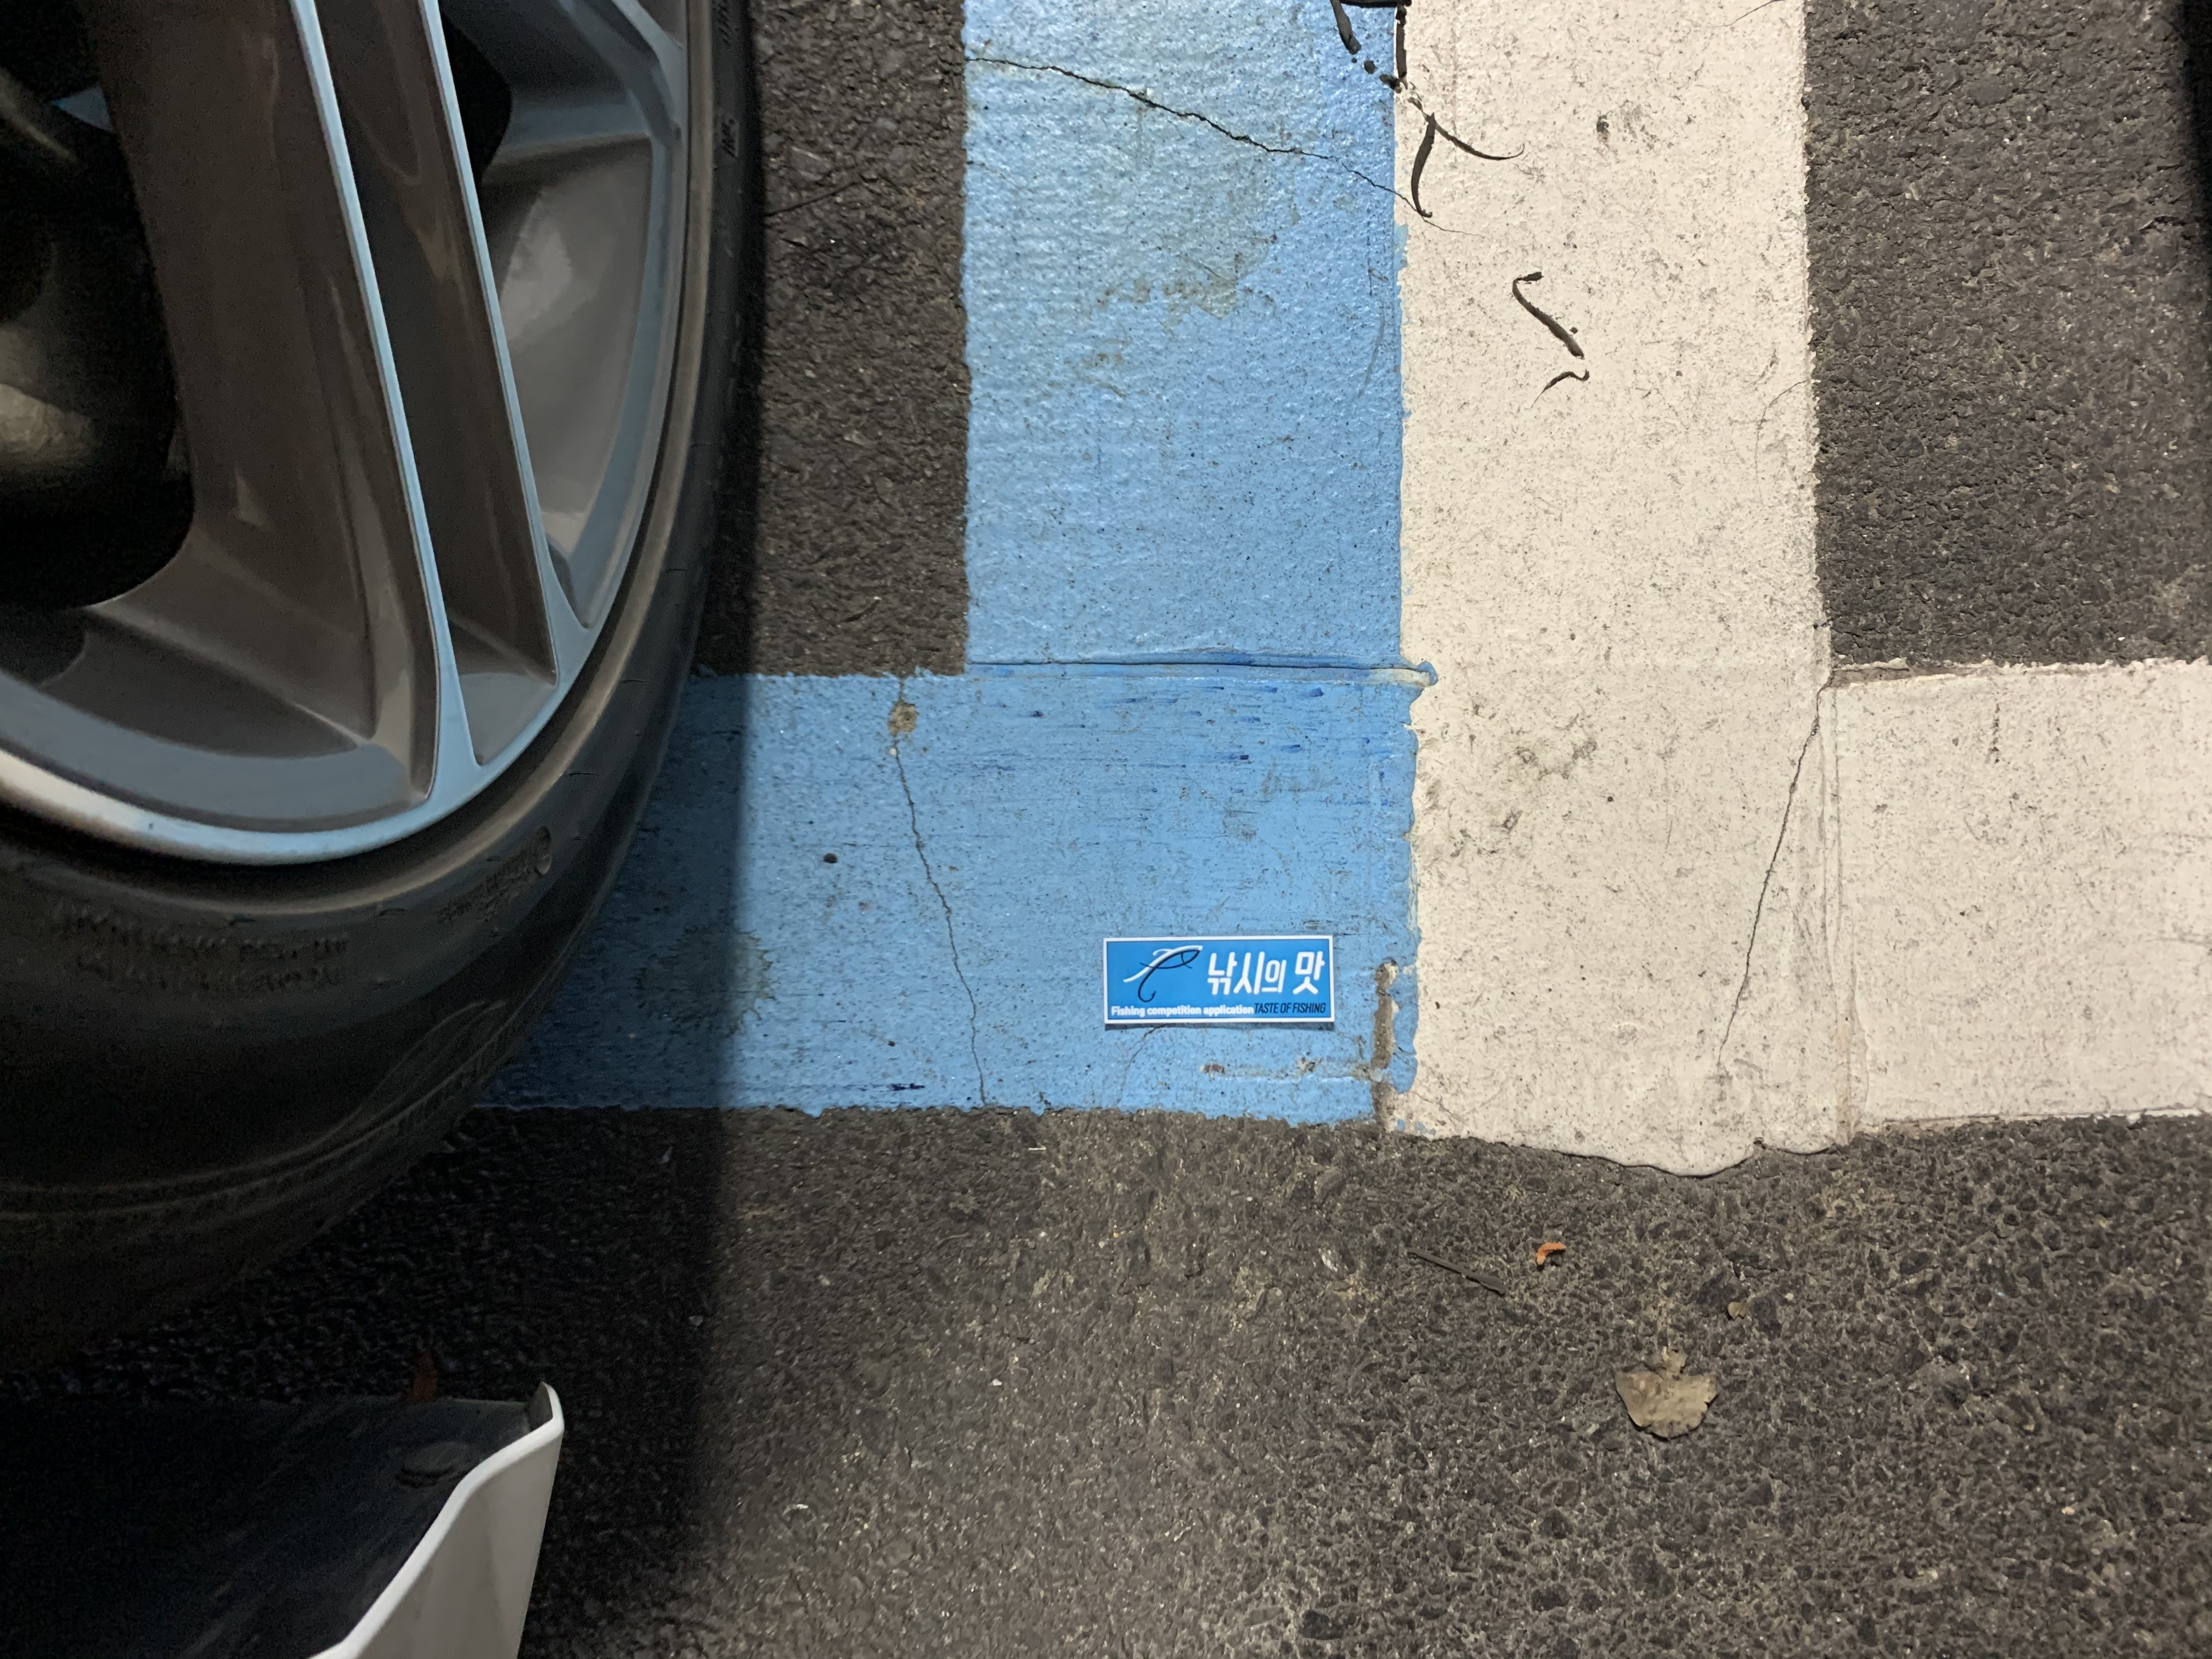tag: (1104, 936, 1334, 1026)
